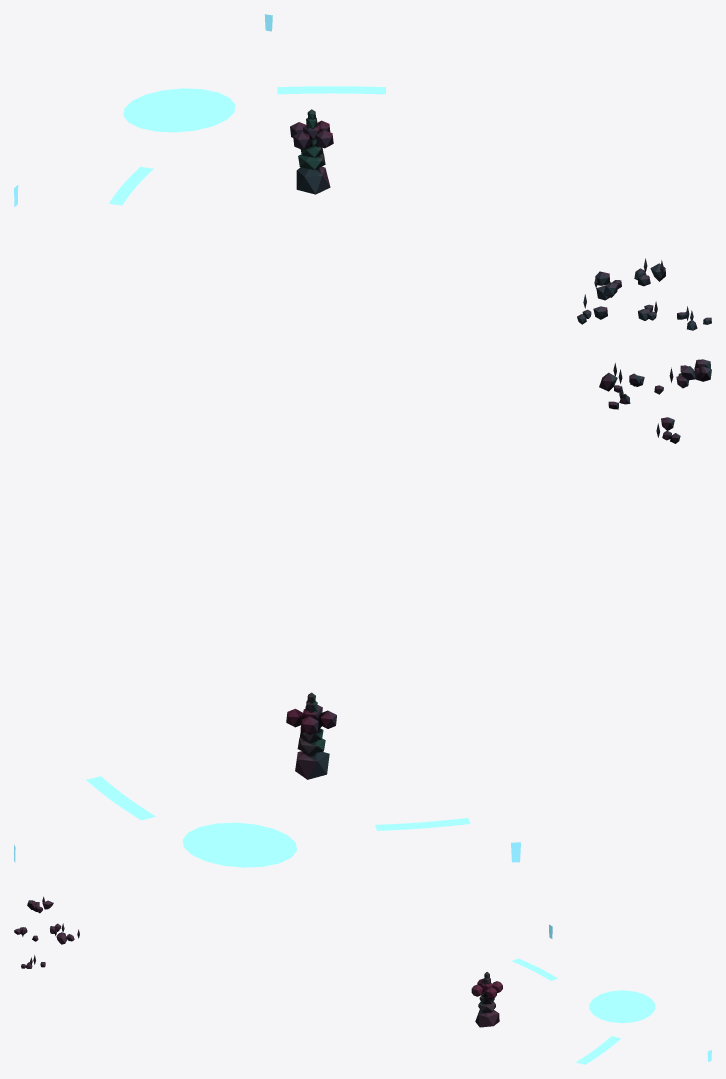
The model's file is hub-scatter.glb.
3 views of the same model, one above another, from view 1: azimuth 30°, elevation 25°; view 2: azimuth 150°, elevation 25°; view 3: azimuth 270°, elevation 25° (orthographic). The views are drawn at different scales.
Visible parts, largest first — view 1: water_mini_pond, tree_sakura, water_stream_blog_about, boulder_L, water_stream_about_skills, tree_pine_dense, floating_rocks_5; view 2: water_mini_pond, tree_sakura, water_stream_blog_about, boulder_L; view 3: water_mini_pond, tree_sakura, water_stream_blog_about, boulder_L.
Boxes of the visible parts, x1=… form: water_mini_pond: x1=123, y1=88, x2=235, y2=132; tree_sakura: x1=290, y1=120, x2=333, y2=149; water_stream_blog_about: x1=277, y1=86, x2=385, y2=94; boulder_L: x1=296, y1=166, x2=330, y2=194; water_stream_about_skills: x1=109, y1=166, x2=153, y2=205; tree_pine_dense: x1=298, y1=139, x2=325, y2=169; floating_rocks_5: x1=594, y1=271, x2=621, y2=300; water_mini_pond: x1=182, y1=822, x2=296, y2=867; tree_sakura: x1=286, y1=704, x2=336, y2=734; water_stream_blog_about: x1=86, y1=776, x2=155, y2=820; boulder_L: x1=295, y1=751, x2=329, y2=779; water_mini_pond: x1=589, y1=990, x2=655, y2=1023; tree_sakura: x1=471, y1=978, x2=502, y2=999; water_stream_blog_about: x1=575, y1=1036, x2=620, y2=1064; boulder_L: x1=475, y1=1009, x2=499, y2=1027.
Bounding box in the file's own units: 38.64 × 15.48 × 87.8.
Materials: 5 (4 with a texture image).
